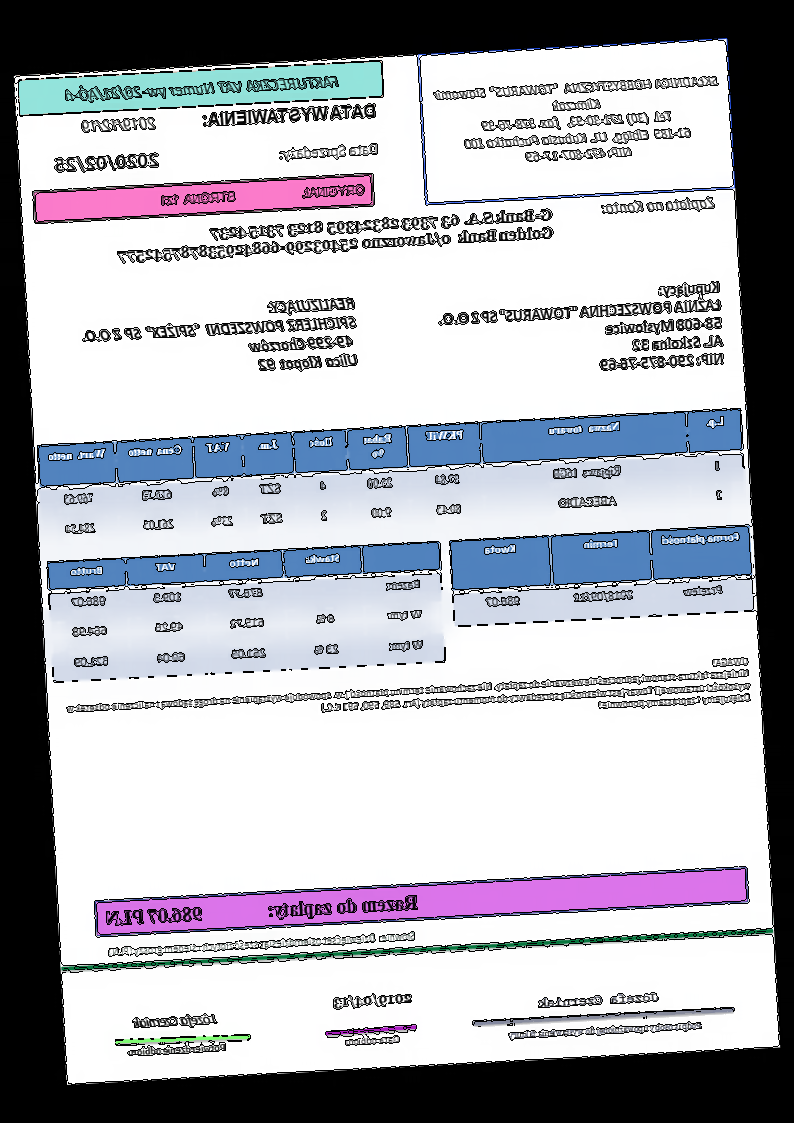Table: (37, 405, 748, 552), (45, 540, 447, 685), (450, 524, 756, 629)
TextBox: (63, 652, 753, 742), (436, 276, 727, 381), (429, 70, 727, 171), (114, 203, 556, 268), (78, 293, 361, 385), (104, 890, 421, 931), (60, 68, 344, 107), (104, 927, 418, 961), (156, 179, 369, 210), (199, 99, 379, 131), (506, 1017, 705, 1042), (52, 147, 162, 175), (601, 192, 717, 216), (277, 137, 380, 164), (537, 989, 662, 1010), (124, 1039, 229, 1060), (130, 1008, 221, 1032), (77, 111, 160, 137), (332, 988, 416, 1013), (342, 1031, 403, 1048)
